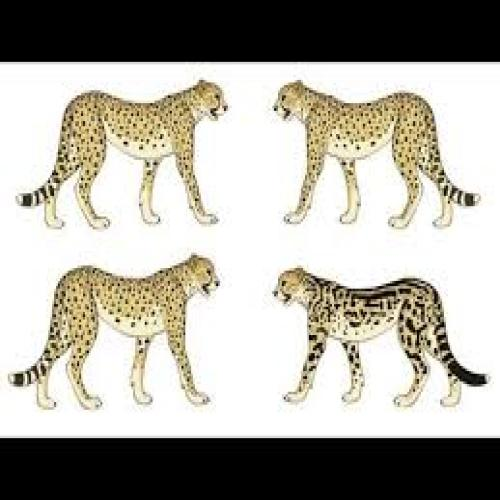cheetah-endangered: (12, 253, 222, 410), (272, 264, 490, 410), (17, 80, 227, 230), (272, 81, 478, 230)
